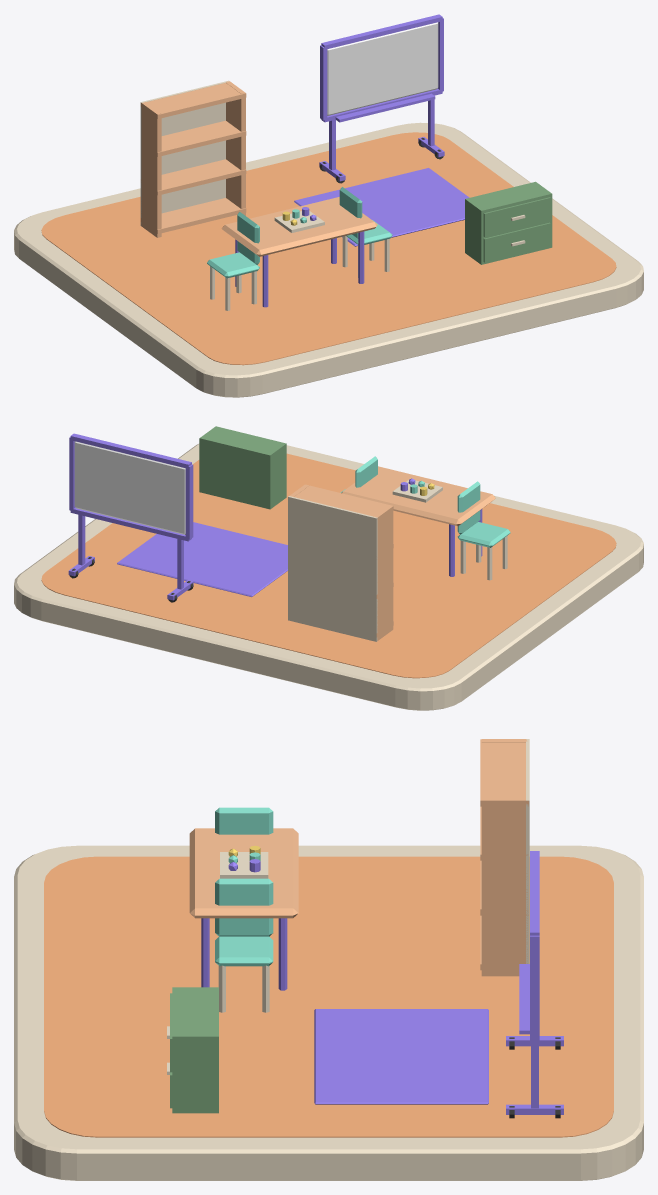
File: room.fbx
3 renders of one model, top to bottom at view 1: azimuth 30°, elevation 25°; view 2: azimuth 150°, elevation 25°; view 3: azimuth 270°, elevation 25°, orthographic. The views are drawn at different scales.
Visible parts, largest first — view 1: COM-02 Floor Surface, COM-01 Rounded Base Direct, Writing surface, Cabinet, Rug, Back, Rounded table top, Side, Side.001, Shelf.003, Shelf.001, Shelf.002 (+6 smaller); view 2: COM-02 Floor Surface, COM-01 Rounded Base Direct, Back, Writing surface, Rug, Cabinet, Rounded table top, Side, Shelf.003, Frame rail.001, Seat, Frame rail (+5 smaller); view 3: COM-02 Floor Surface, COM-01 Rounded Base Direct, Rug, Side.001, Rounded table top, Cabinet, Shelf.003, Backrest.001, Seat.001, Backrest, Frame upright.001, Activity board (+5 smaller).
Part boxes in pixels (x1,y1,x2,y2): COM-02 Floor Surface: (41,132,616,365); COM-01 Rounded Base Direct: (14,122,643,397); Writing surface: (327,22,438,115); Cabinet: (465,181,552,264); Rug: (294,168,469,246); Back: (140,80,229,225); Rounded table top: (222,197,377,256); Side: (141,102,161,237); Side.001: (226,81,245,215); Shelf.003: (140,83,246,118); Shelf.001: (140,159,246,195); Shelf.002: (141,120,246,156); COM-02 Floor Surface: (41,453,616,678); COM-01 Rounded Base Direct: (14,444,643,710); Back: (288,496,377,641); Writing surface: (74,441,185,534); Rug: (117,522,287,596); Cabinet: (199,426,286,509); Rounded table top: (341,466,495,526); Side: (373,505,393,640); Shelf.003: (294,484,393,521); Frame rail.001: (70,433,191,468); Seat: (457,522,510,547); Frame rail: (70,507,191,541); COM-02 Floor Surface: (44,856,613,1137); COM-01 Rounded Base Direct: (14,845,643,1180); Rug: (314,1009,488,1104); Side.001: (481,797,527,976); Rounded table top: (189,828,298,918); Cabinet: (167,987,218,1113); Shelf.003: (480,739,528,806); Backrest.001: (215,878,273,936); Seat.001: (215,936,273,966); Backrest: (215,807,273,834); Frame upright.001: (530,935,539,1039); Activity board: (220,852,268,878).
Bounding box in the file's own units: 600 × 204 × 520.
